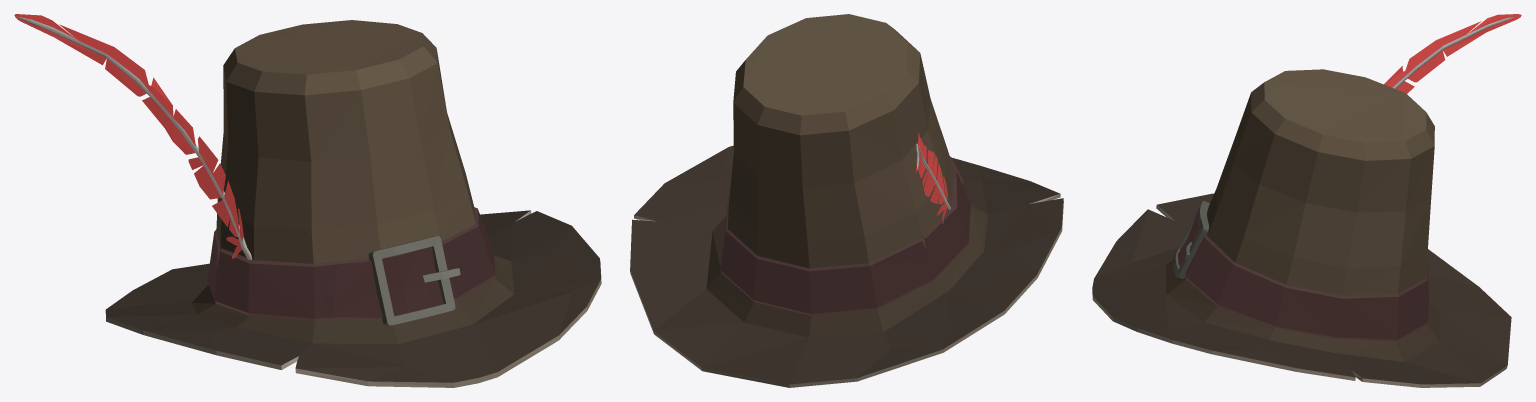
The model's file is settlersHatFemale.glb.
The picture shows the model from 3 angles, left to right: view 1: azimuth 30°, elevation 25°; view 2: azimuth 150°, elevation 25°; view 3: azimuth 270°, elevation 25°; orthographic projection. The views are drawn at different scales.
Visible parts, largest first — view 1: settlersHat; view 2: settlersHat; view 3: settlersHat.
Boxes of the visible parts, bbox=[...] form: settlersHat: bbox=[14, 14, 601, 387]; settlersHat: bbox=[630, 14, 1063, 387]; settlersHat: bbox=[1092, 14, 1521, 387].
Size of the model in its own units: 0.455 by 0.3148 by 0.4719.
